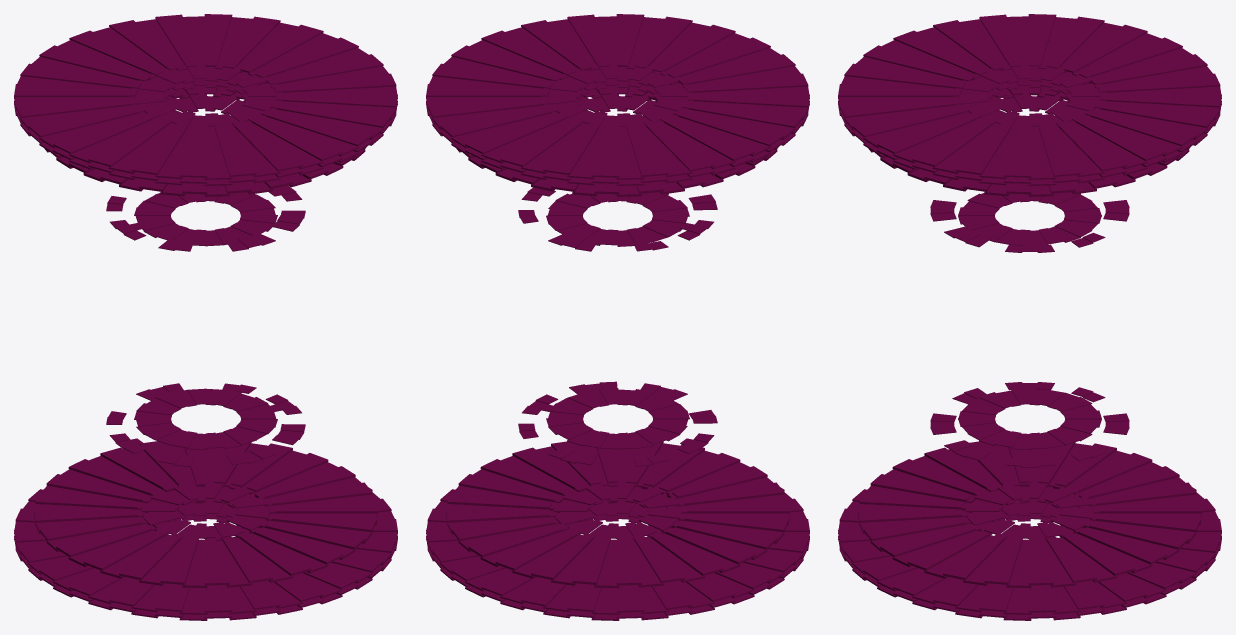
File: rmuonendcaptgc.fbx
3 views of the same model, side by side, from view 1: azimuth 30°, elevation 25°; view 2: azimuth 150°, elevation 25°; view 3: azimuth 270°, elevation 25° (orthographic).
Parts seen in each view (by area): view 1: /tmp/importOpenSceneGraph77946/RMuonEndcapTGC.wrl_Group_Grou (×91); view 2: /tmp/importOpenSceneGraph77946/RMuonEndcapTGC.wrl_Group_Grou (×91); view 3: /tmp/importOpenSceneGraph77946/RMuonEndcapTGC.wrl_Group_Grou (×90).
Boxes of the visible parts, x1,y1,x2,y2 form: /tmp/importOpenSceneGraph77946/RMuonEndcapTGC.wrl_Group_Grou (×91): [14, 14, 397, 614]; /tmp/importOpenSceneGraph77946/RMuonEndcapTGC.wrl_Group_Grou (×91): [426, 14, 809, 614]; /tmp/importOpenSceneGraph77946/RMuonEndcapTGC.wrl_Group_Grou (×90): [838, 14, 1221, 614].
Size of the model in its own units: 23895 by 30549 by 23895.
